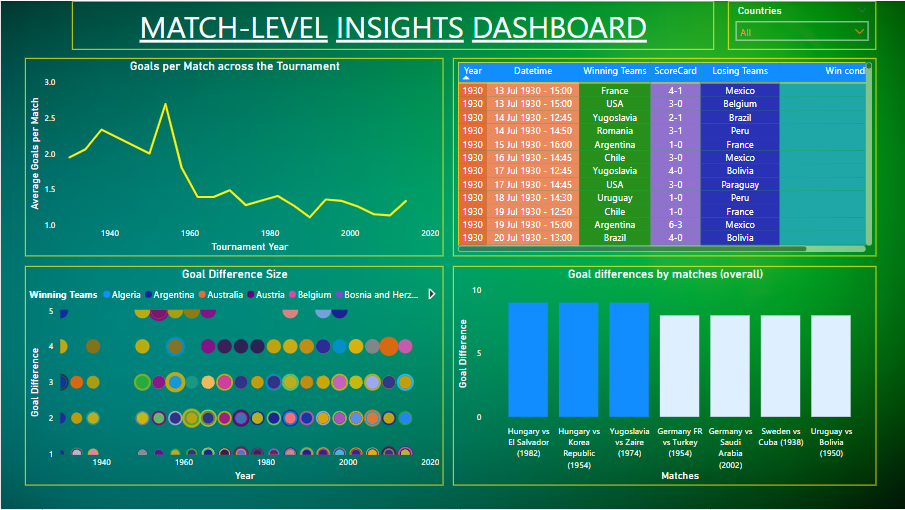

What the dashboard file says about the page in this screenshot:
{"tool":"powerbi","page":{"name":"MATCH-LEVEL INSIGHTS DASHBOARD","canvas":[1280,720],"ordinal":2},"visuals":[{"type":"lineChart","title":"Goals per Match across the Tournament","fields":{"Category":["WorldCupMatches.Year"],"Y":["WorldCupMatches.Goals Per Match"]},"box":[33.6,80.6,593,280.5],"z":0},{"type":"tableEx","fields":{"Values":["WorldCupMatches.Year","WorldCupMatches.Datetime","WorldCupMatches.Winning Teams","WorldCupMatches.ScoreCard","WorldCupMatches.Losing Teams","WorldCupMatches.Win conditions"]},"box":[640,80.6,599.7,280.5],"z":1000},{"type":"scatterChart","title":"Goal Difference Size","fields":{"X":["WorldCupMatches.Year"],"Y":["WorldCupMatches.Goal Difference"],"Size":["Sum(WorldCupMatches.Goal Difference)"],"Series":["WorldCupMatches.Winning Teams"]},"box":[33.6,376.3,593,310.8],"z":2000},{"type":"columnChart","title":"Goal differences by matches (overall)","fields":{"Y":["Sum(WorldCupMatches.Goal Difference)"],"Category":["WorldCupMatches.Match Label"]},"box":[640,376.3,599.7,310.8],"z":3000},{"type":"slicer","fields":{"Values":["WorldCupMatches.Winning Teams"]},"box":[1029.7,0,210,68.9],"z":4000},{"type":"textbox","box":[100.8,0,910.4,68.9],"z":5000}]}

Visuals, with their boxes in screenshot pixels (x1, y1, x2, y2), scaled from the page's 1280x720 canvas onto the 905x510 screenshot:
"Goals per Match across the Tournament" lineChart: pyautogui.locateOnScreen(24, 57, 443, 256)
tableEx - WorldCupMatches.Year x WorldCupMatches.Datetime: pyautogui.locateOnScreen(452, 57, 877, 256)
"Goal Difference Size" scatterChart: pyautogui.locateOnScreen(24, 267, 443, 487)
"Goal differences by matches (overall)" columnChart: pyautogui.locateOnScreen(452, 267, 877, 487)
slicer - WorldCupMatches.Winning Teams: pyautogui.locateOnScreen(728, 0, 877, 49)
textbox: pyautogui.locateOnScreen(71, 0, 715, 49)
